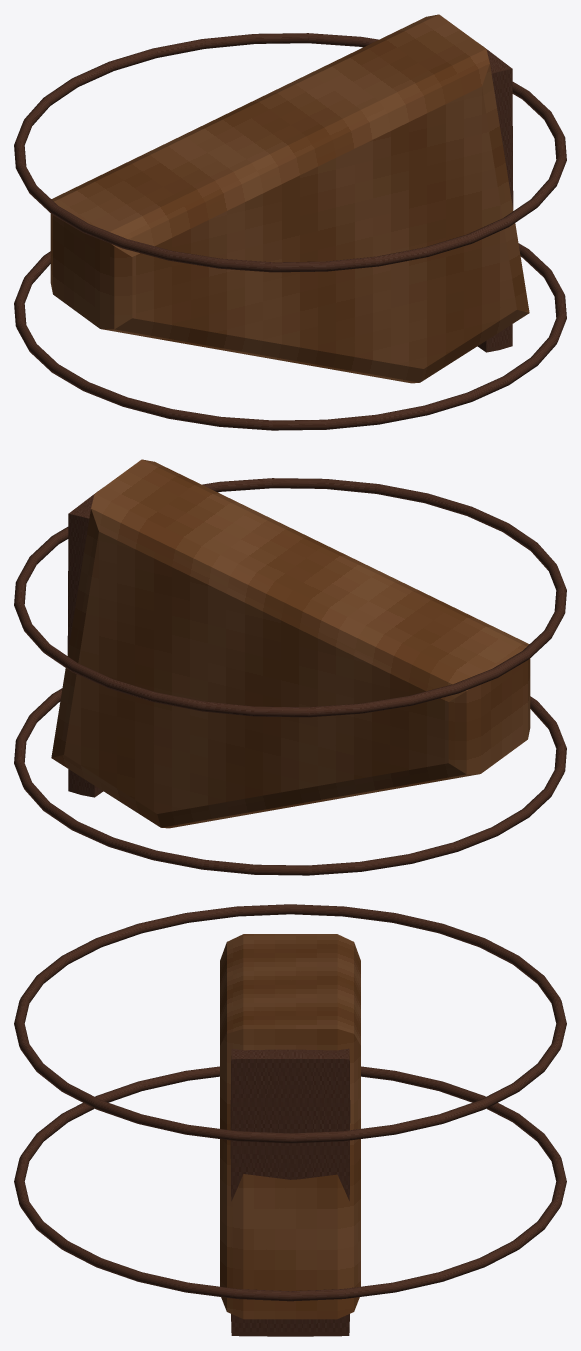
3 renders of one model, top to bottom at view 1: azimuth 30°, elevation 25°; view 2: azimuth 150°, elevation 25°; view 3: azimuth 270°, elevation 25°, orthographic.
Parts seen in each view (by area): view 1: wood.0, leather.3, leather.2, leather.1; view 2: wood.0, leather.3, leather.2, leather.1; view 3: wood.0, leather.1, leather.3, leather.2.
Boxes of the visible parts, bbox=[...] form: wood.0: bbox=[50, 14, 529, 383]; leather.3: bbox=[14, 33, 566, 272]; leather.2: bbox=[14, 243, 566, 430]; leather.1: bbox=[477, 44, 513, 352]; wood.0: bbox=[51, 459, 530, 828]; leather.3: bbox=[14, 478, 566, 717]; leather.2: bbox=[14, 688, 566, 875]; leather.1: bbox=[67, 489, 103, 797]; wood.0: bbox=[220, 934, 360, 1319]; leather.1: bbox=[230, 1048, 350, 1336]; leather.3: bbox=[14, 904, 566, 1143]; leather.2: bbox=[14, 1066, 566, 1301].
Bounding box in the file's own units: 0.4117 × 0.2593 × 0.4117.
Materials: 2 (2 with a texture image).
